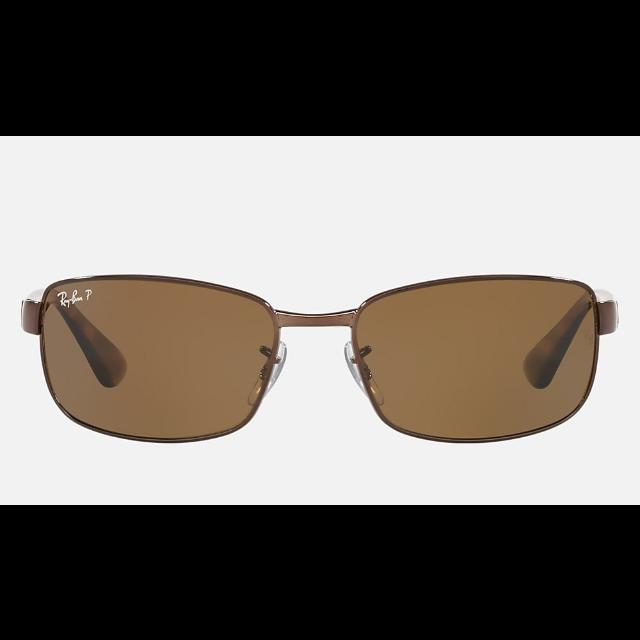Sunglasses: (22, 271, 618, 444)
